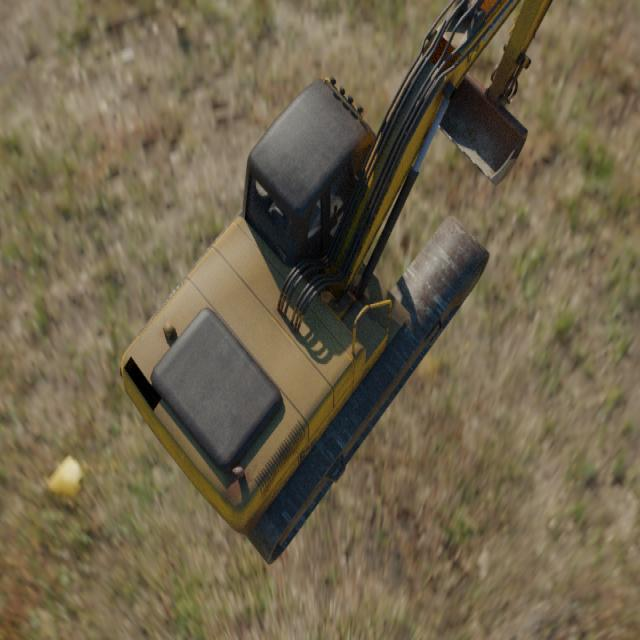excavator: (119, 0, 552, 567)
